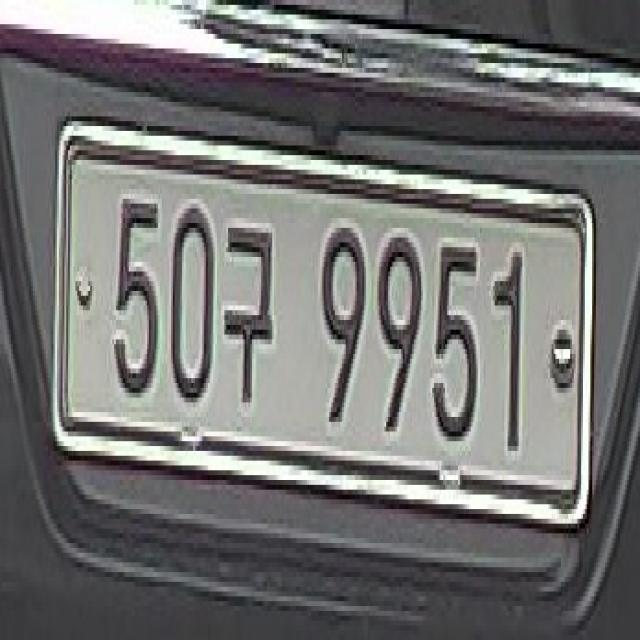0: (168, 199, 218, 418)
1: (492, 240, 527, 464)
5: (431, 233, 481, 447), (113, 202, 163, 412)
9: (311, 218, 368, 449), (374, 228, 421, 444)
gu: (220, 218, 276, 410)
license_plate: (47, 121, 598, 534)
